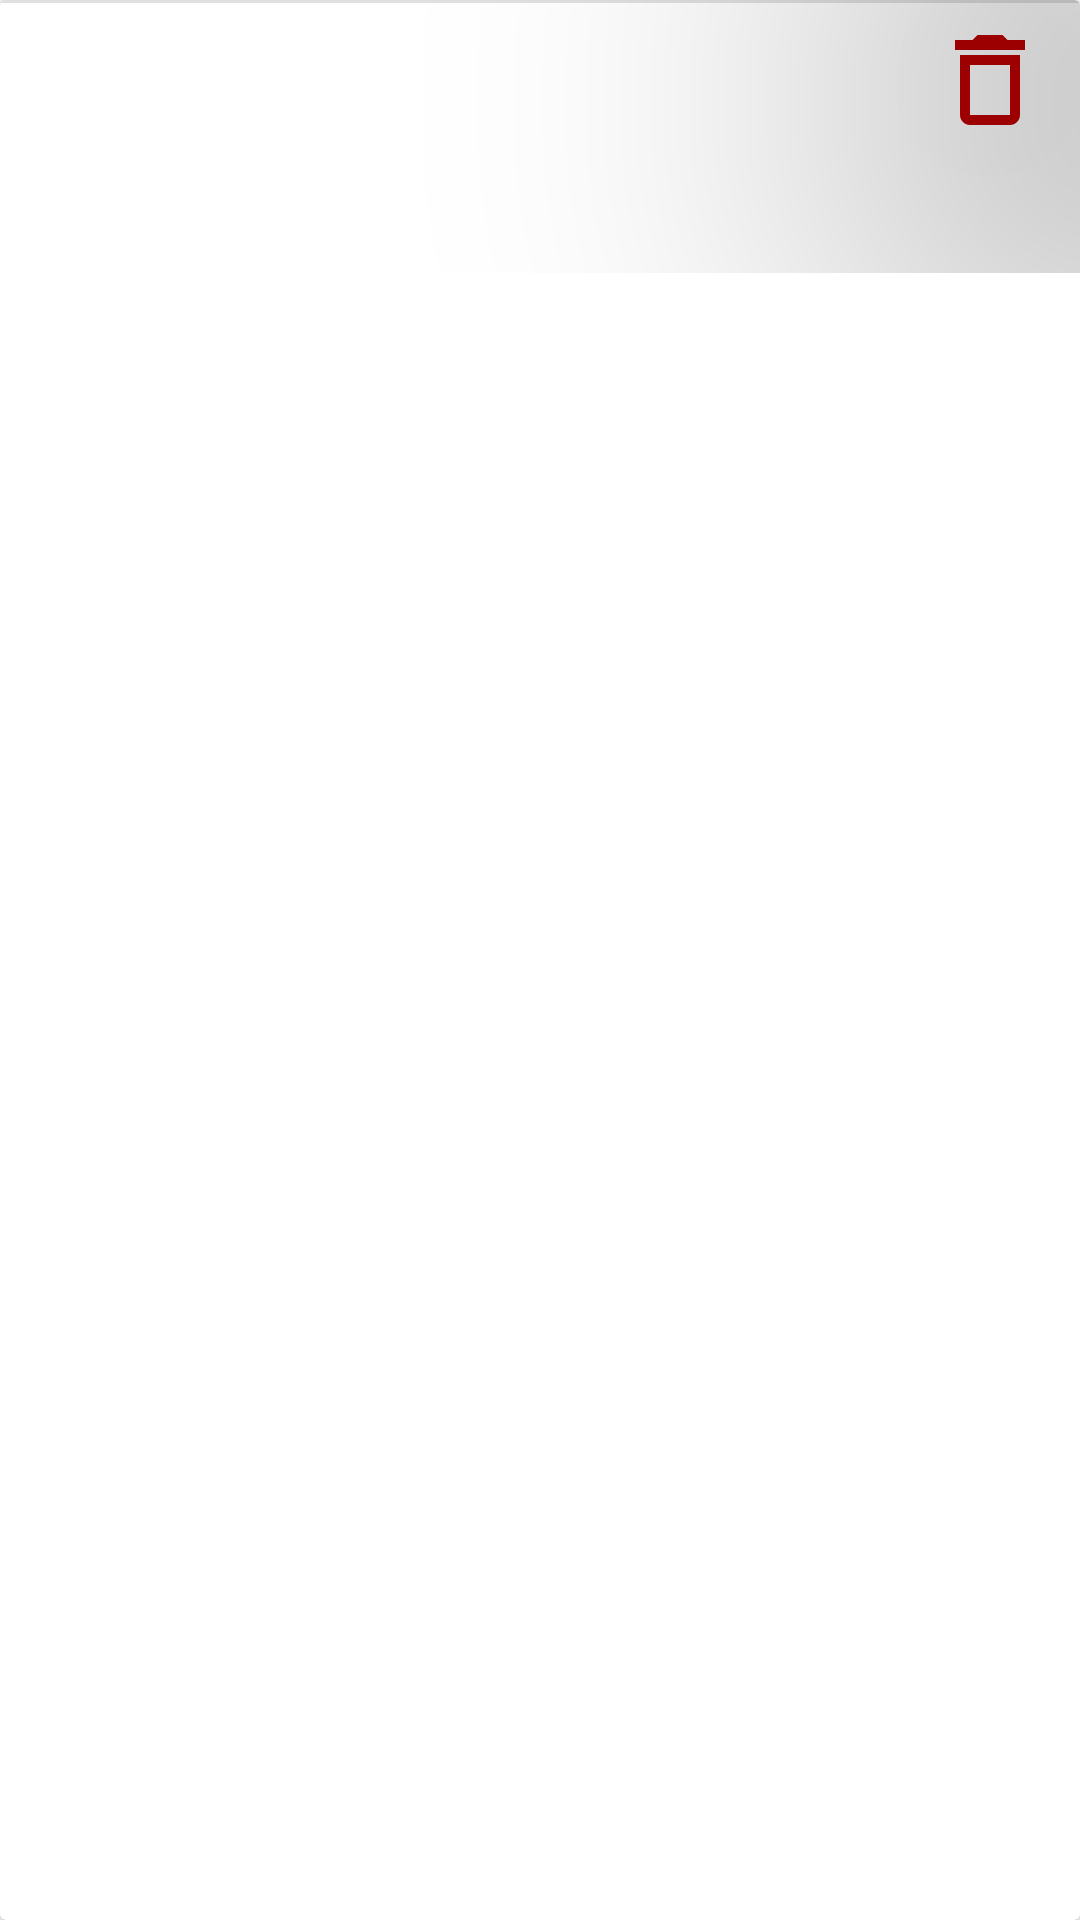

Where icons sit on this 1080w x 1920h app screen, as {"left": x1, "top": y1, "right": x2, "bottom": y2}:
delete: {"left": 955, "top": 35, "right": 1025, "bottom": 125}
